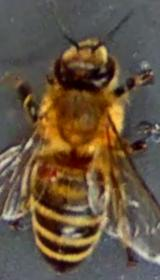varroa_mite: (29, 156, 62, 187)
